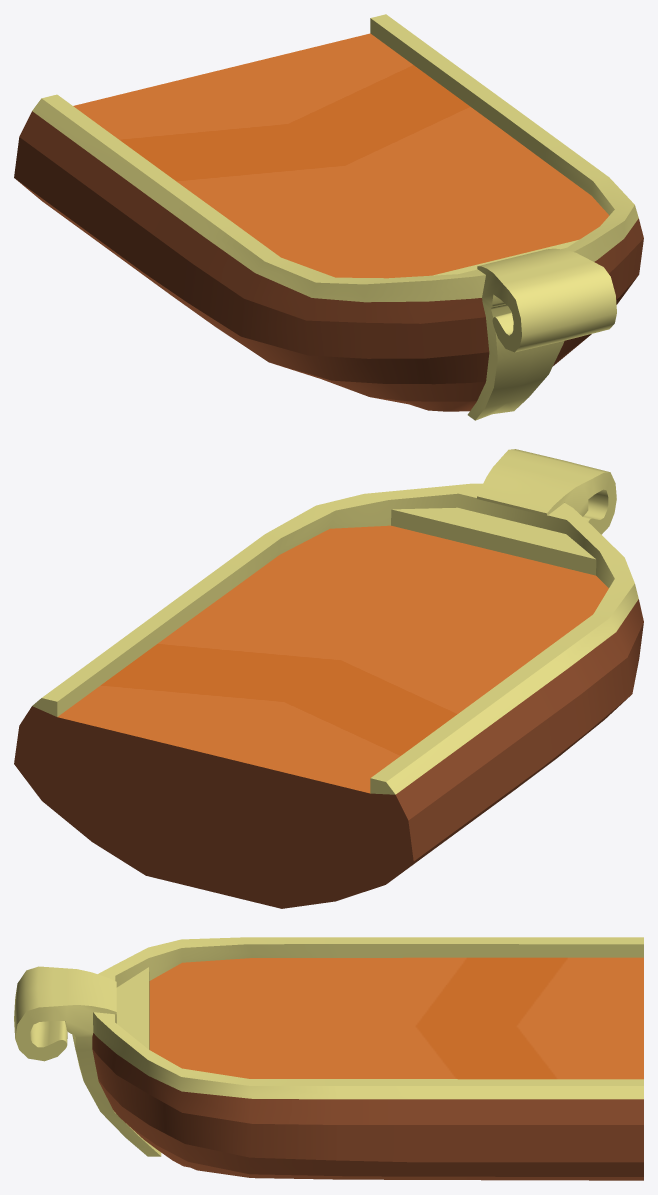
The model's file is gemi_on_parca.fbx.
3 renders of one model, top to bottom at view 1: azimuth 30°, elevation 25°; view 2: azimuth 150°, elevation 25°; view 3: azimuth 270°, elevation 25°, orthographic. The views are drawn at different scales.
Parts seen in each view (by area): view 1: 1. parça; view 2: 1. parça; view 3: 1. parça.
Boxes of the visible parts, x1,y1,x2,y2 form: 1. parça: (14, 14, 643, 420); 1. parça: (14, 449, 643, 908); 1. parça: (14, 937, 643, 1180).
Size of the model in its own units: 528 by 230 by 815.
3 materials, 1 textured.
